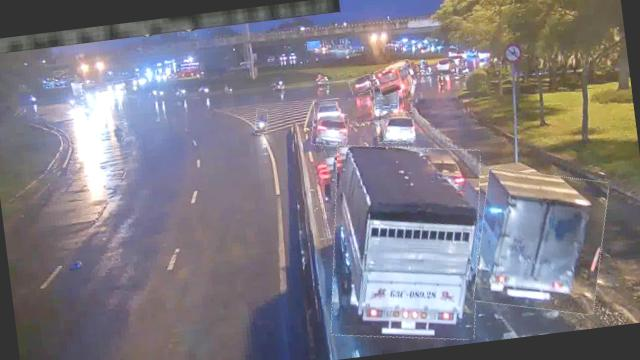Bike: (111, 121, 127, 147), (252, 109, 268, 135)
Bus: (374, 61, 416, 96)
Car: (310, 109, 350, 148), (376, 108, 416, 145), (314, 98, 342, 121), (348, 74, 373, 94)
Truck: (316, 134, 496, 351), (466, 160, 616, 321), (368, 76, 405, 122)
